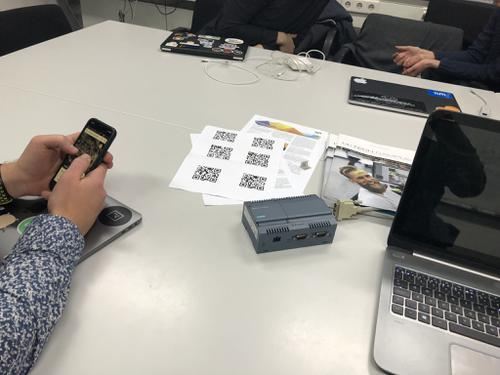device: (242, 195, 338, 255)
